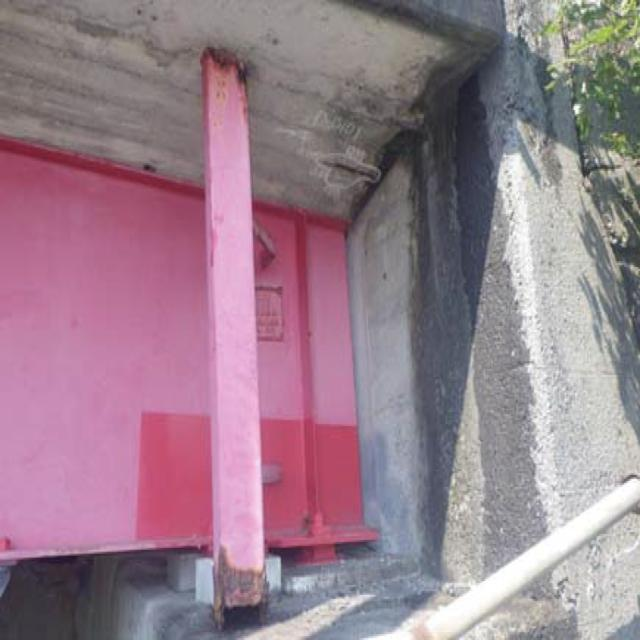corrosion: (201, 524, 283, 634), (193, 39, 261, 147)
spalling: (316, 143, 400, 200)
